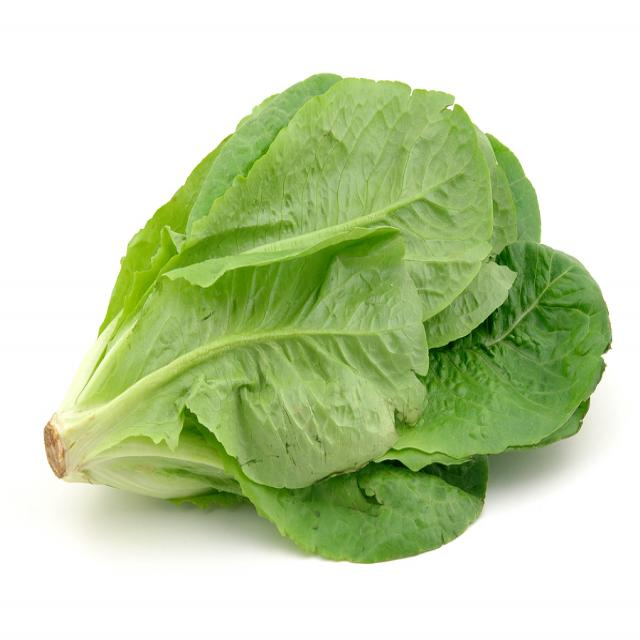Lettuce head: (133, 66, 614, 564)
